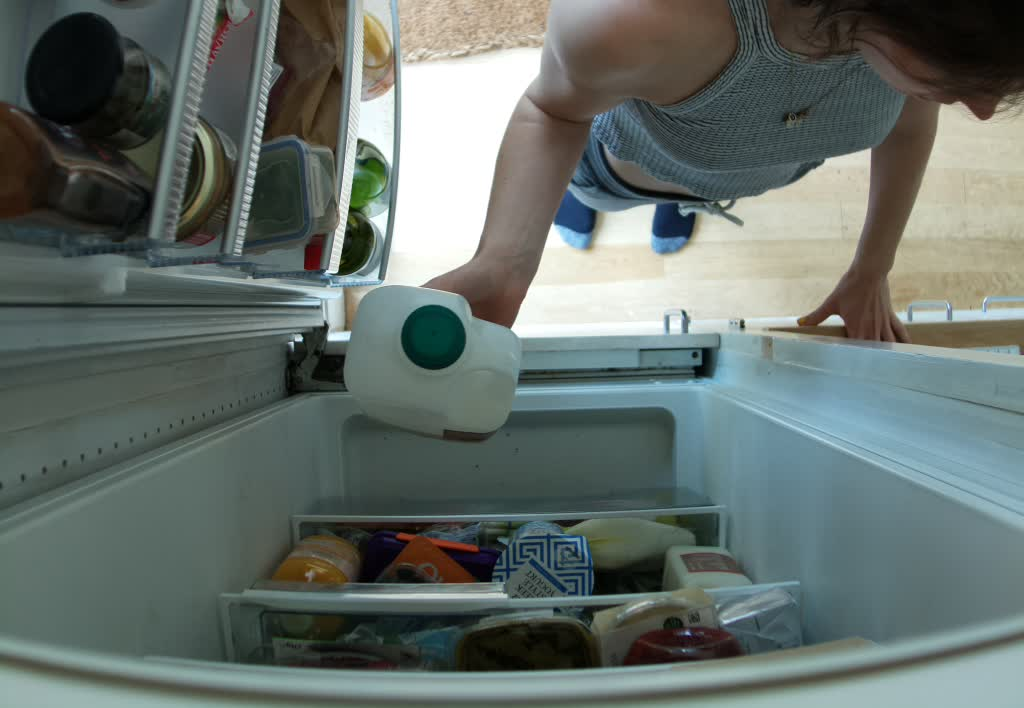milk: (342, 282, 526, 443)
